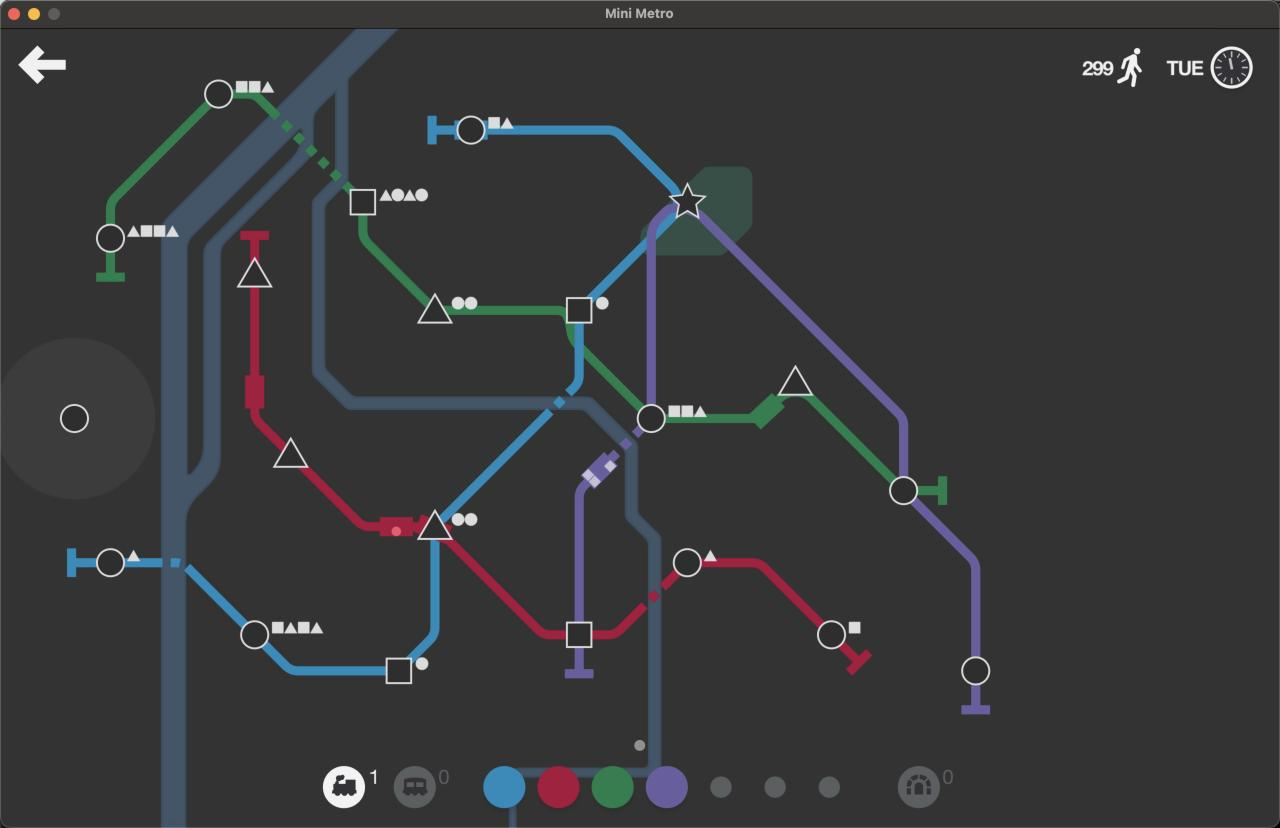CIRCLE: (95, 223, 127, 254), (239, 619, 270, 650), (960, 655, 991, 686), (455, 114, 486, 145), (672, 547, 703, 578), (636, 403, 667, 434), (816, 619, 846, 650), (889, 475, 919, 506), (203, 79, 234, 109), (96, 547, 126, 577), (59, 403, 89, 433)
SQUARE: (348, 188, 377, 217), (385, 656, 413, 685), (565, 620, 593, 648), (566, 297, 593, 325)
STAR: (667, 182, 707, 218)
TRIANGLE: (415, 507, 455, 542), (235, 255, 274, 289), (777, 364, 814, 398), (415, 292, 453, 325), (272, 436, 308, 469)
